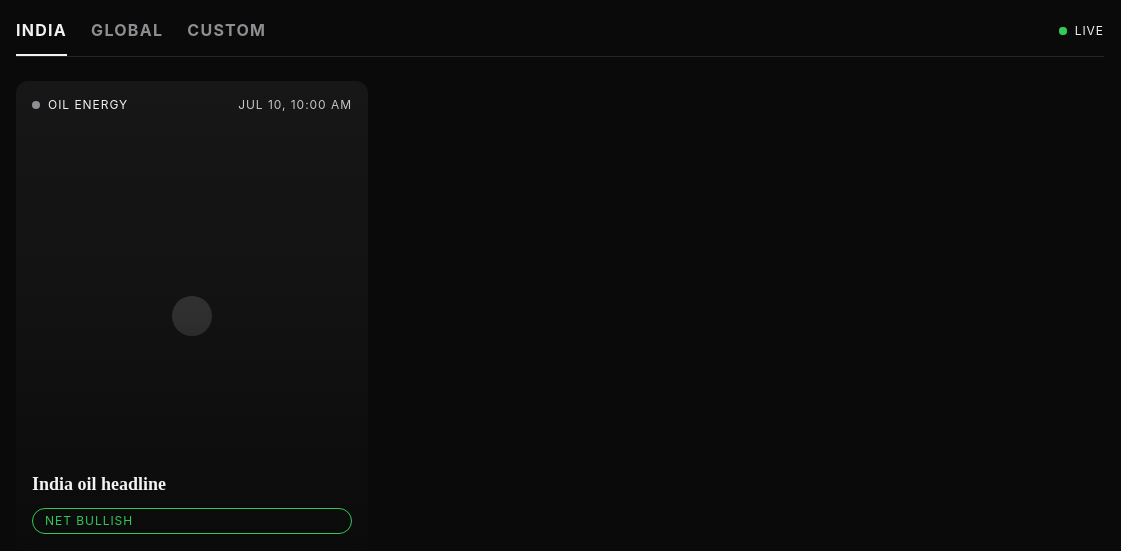
Feed › Custom tab shows a login prompt when logged out
What coordinates should you click on to do the following:
click the tab "Custom"
I would click on:
 (227, 37)
Its box is [187, 18, 266, 56].
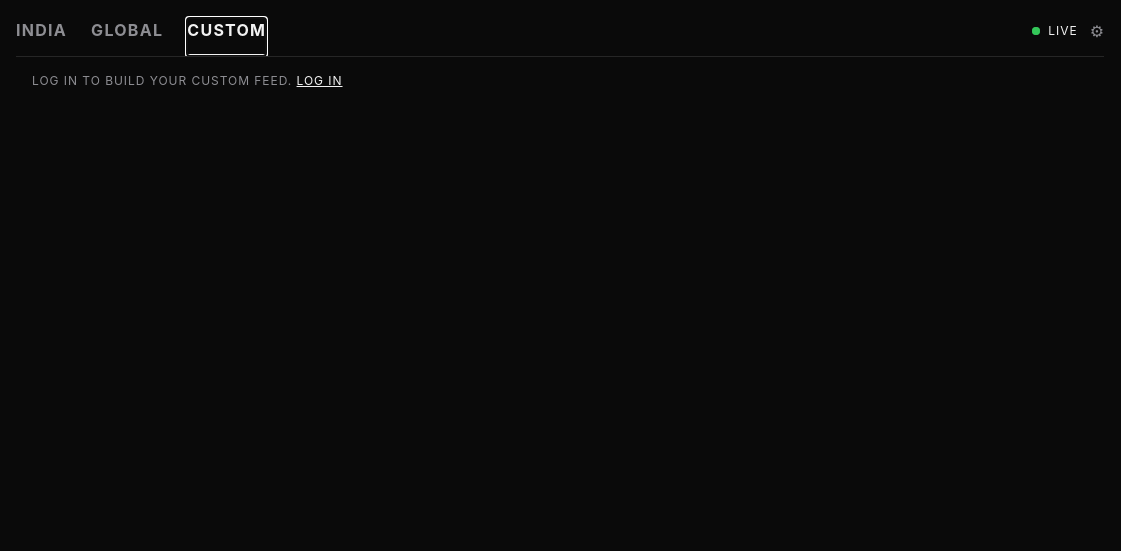
Result: the text "Log in to build your custom feed. Log in" is shown at [32, 73, 342, 88]
